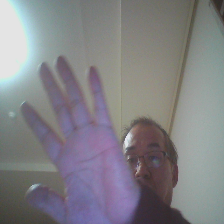hand: (20, 58, 137, 224)
